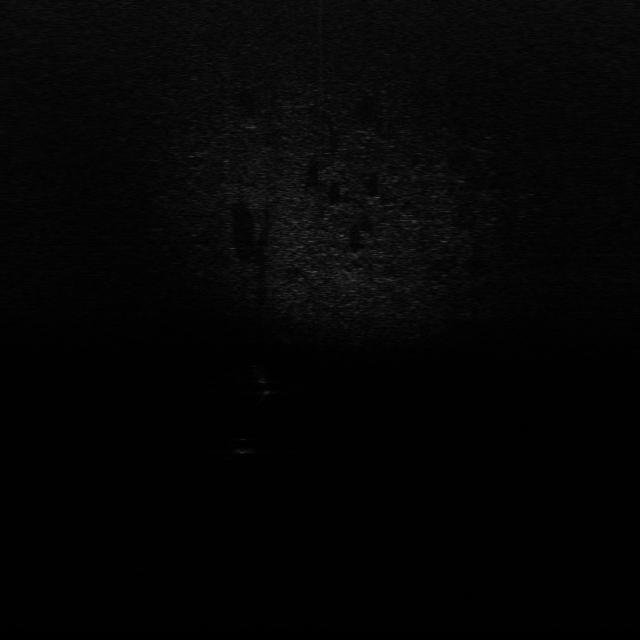ball: (230, 436, 256, 457)
human body: (254, 361, 272, 409)
